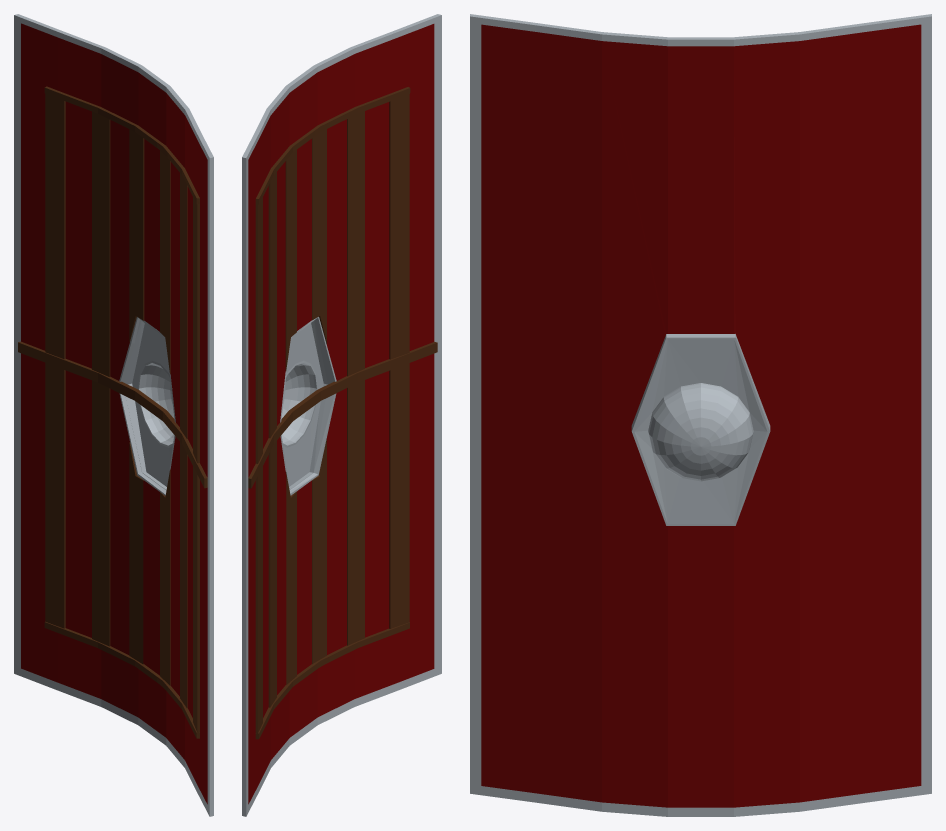
Rendered from Scutum.fbx.
3 views of the same model, side by side, from view 1: azimuth 30°, elevation 25°; view 2: azimuth 150°, elevation 25°; view 3: azimuth 270°, elevation 25° (orthographic). The views are drawn at different scales.
Visible parts, largest first — view 1: Scutum Monocolor; view 2: Scutum Monocolor; view 3: Scutum Monocolor.
Part boxes in pixels (<box>): Scutum Monocolor: <box>14,14,213,816</box>; Scutum Monocolor: <box>242,14,441,816</box>; Scutum Monocolor: <box>470,14,931,816</box>.
Size of the model in its own units: 15.93 by 130 by 70.
